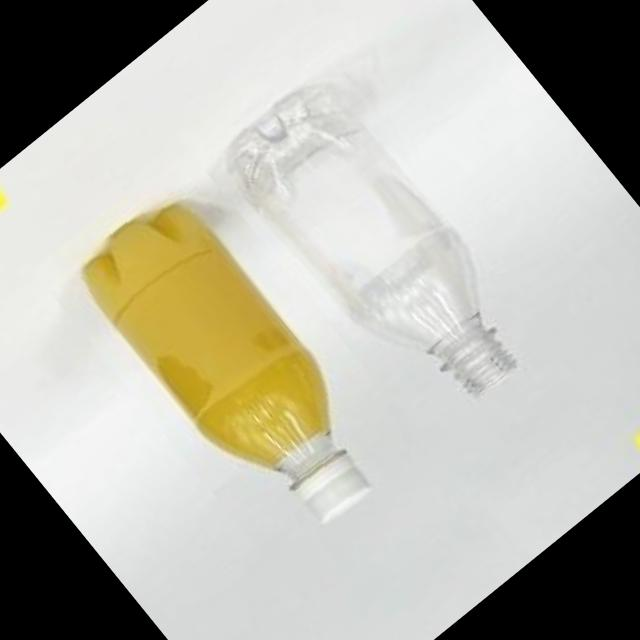plastic bottle: (32, 150, 440, 592), (192, 39, 580, 456)
